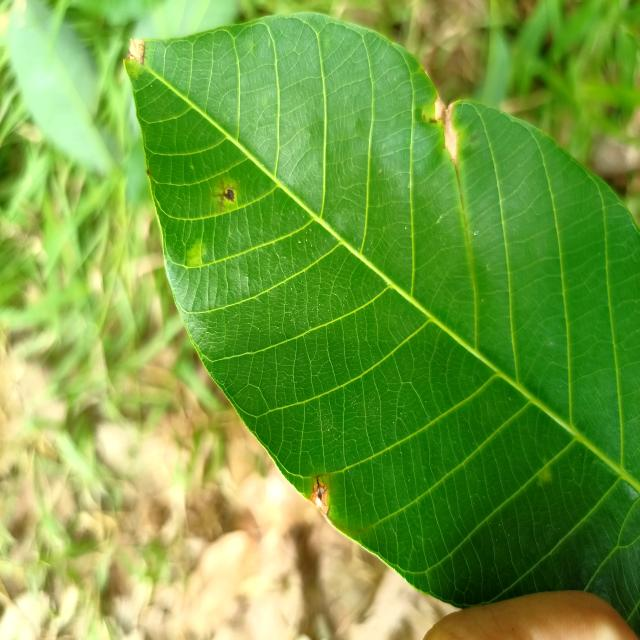Corynespora: (212, 176, 235, 214)
Leaf-Blight: (435, 97, 458, 164), (311, 484, 328, 514), (127, 38, 144, 64)
